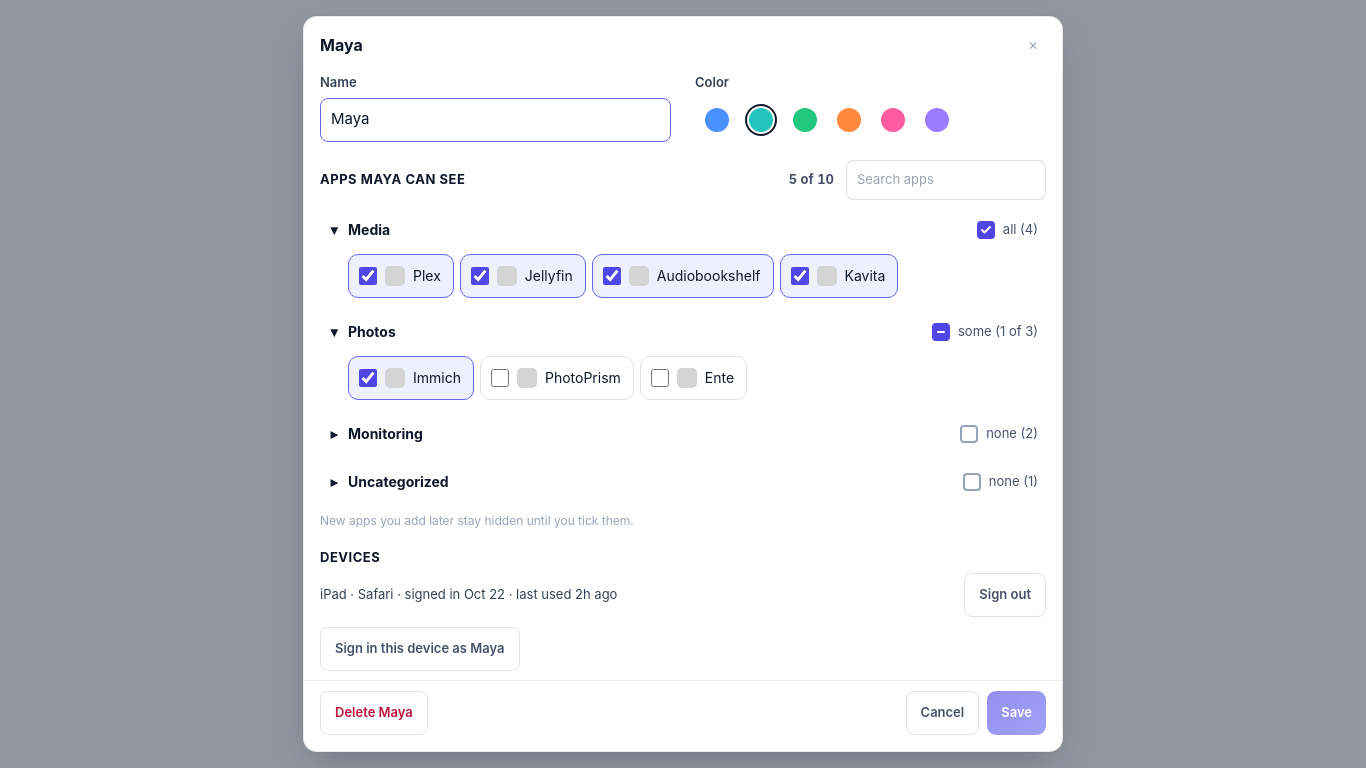
Test: Edit a kid (UX §3) › a failed rename (409) is inline and stops before the apps write
Expected: the element with test id "kid-checklist" is shown, [320, 208, 1046, 504]
Step 1. Replace the text in the field labelled "Name" with "Leo" → (496, 120), box [320, 98, 671, 142]
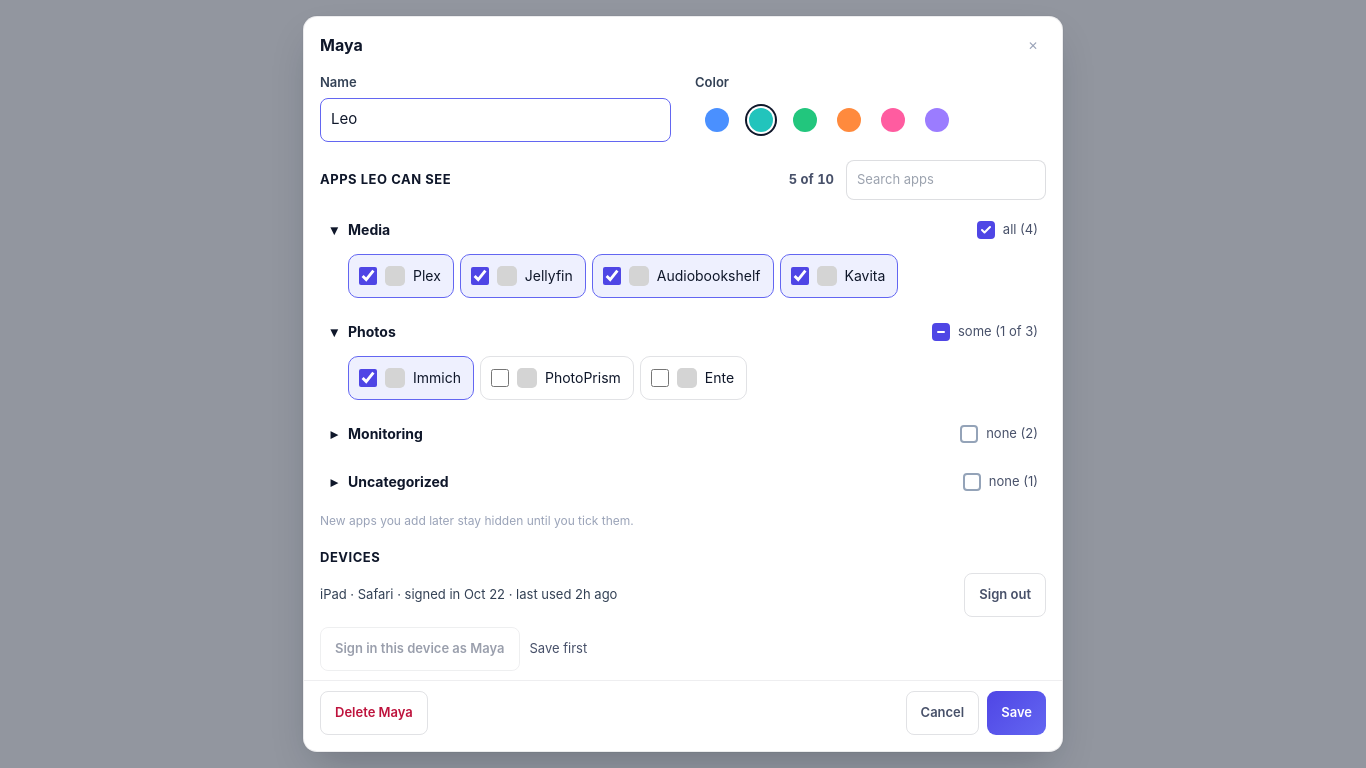
Step 2. Click the checkbox labelled "Plex" → (368, 276), box [359, 266, 377, 284]
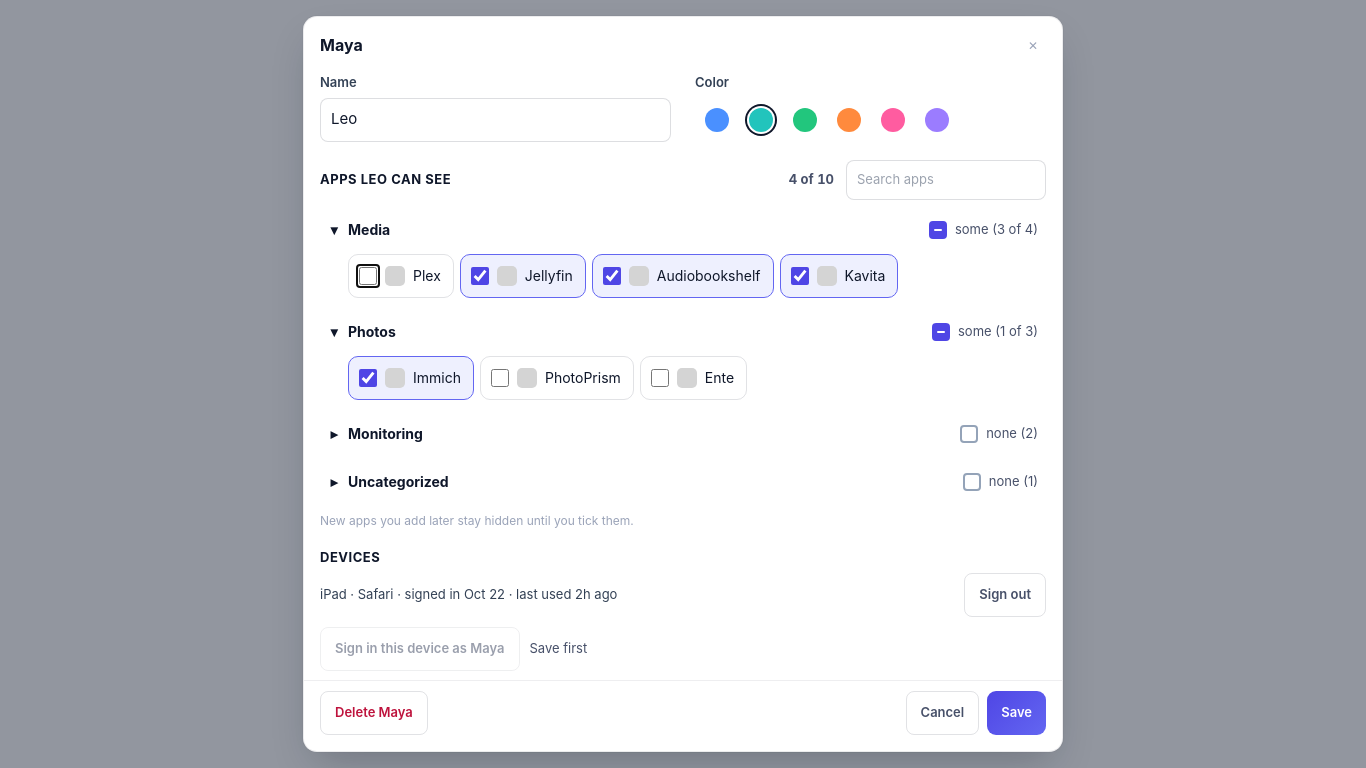
Step 3. Click the button "Save" → (1017, 713), box [987, 691, 1046, 735]
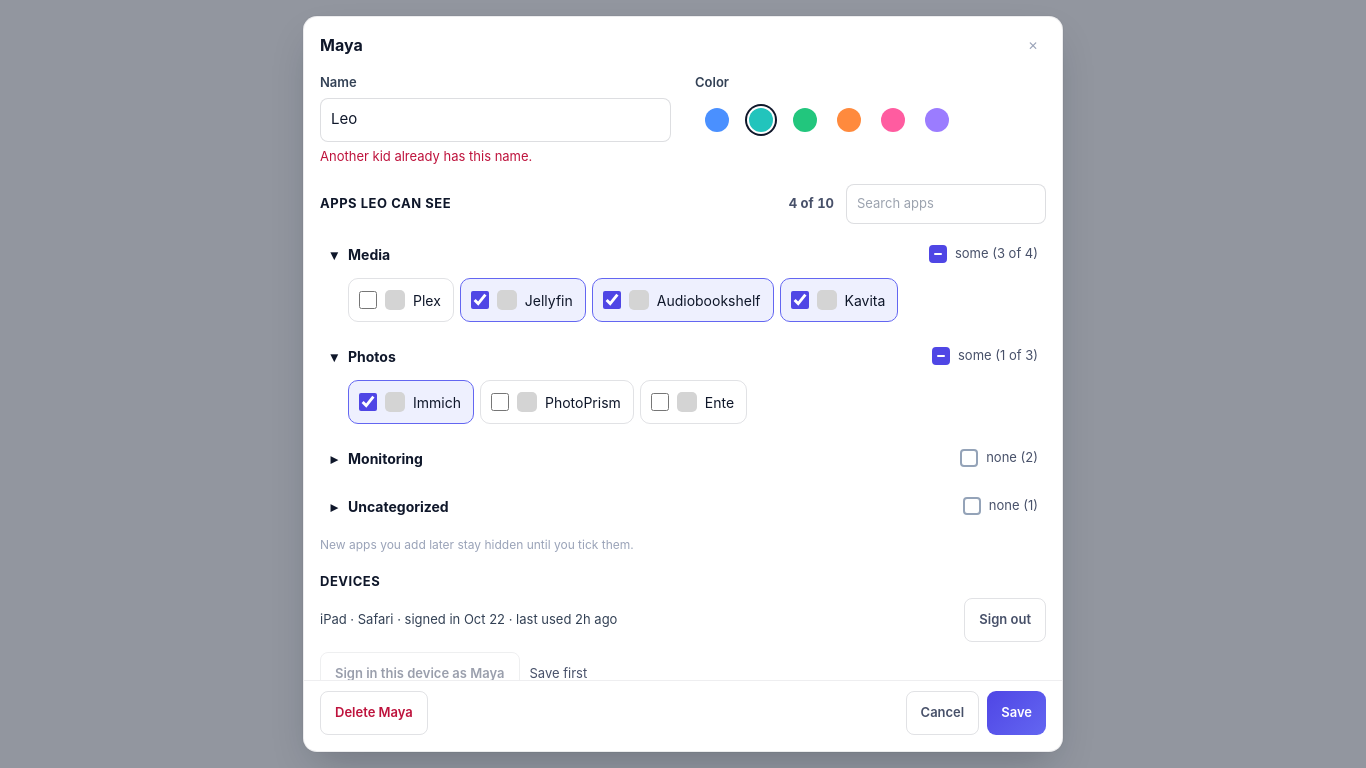
Now the text "Another kid already has this name." is shown, box [320, 148, 532, 164]
